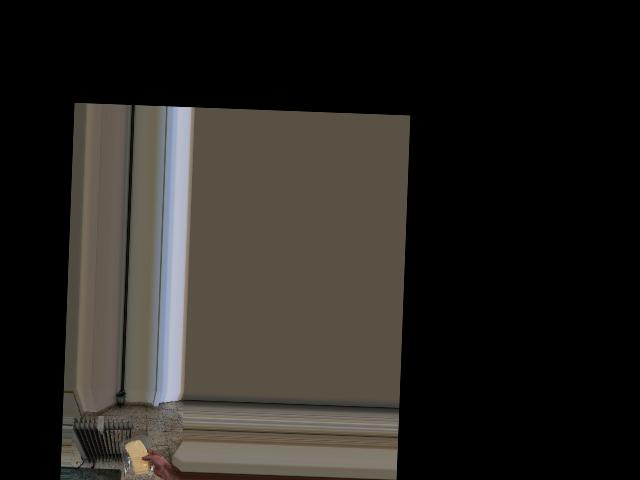cheese: (123, 435, 153, 477)
